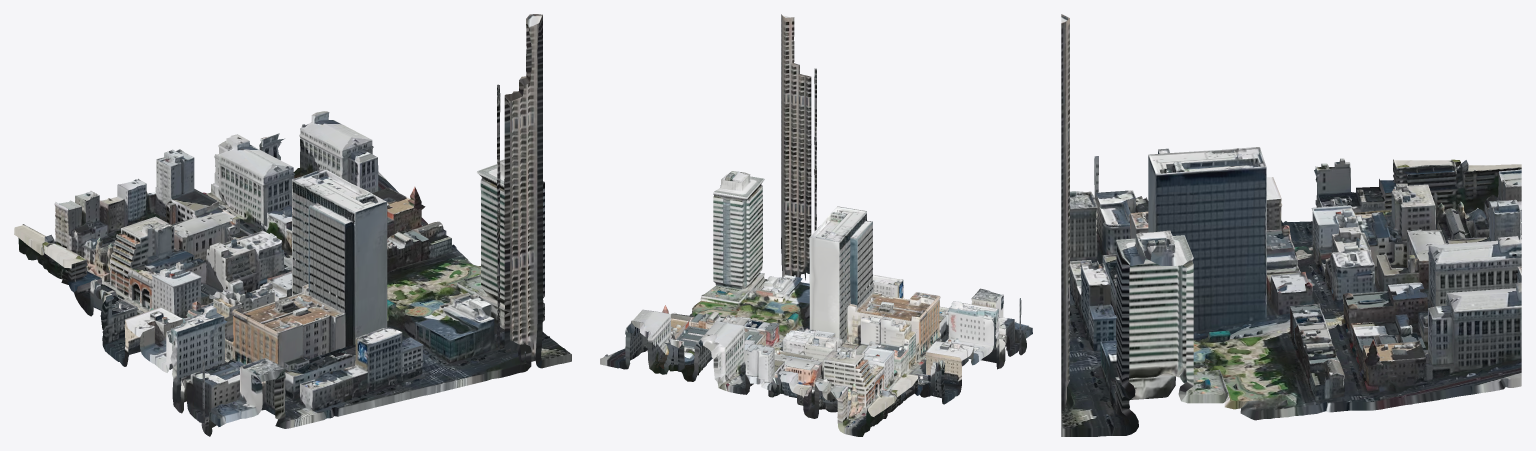
File: z17-20969-50654-h0-yup-uvflip-v3-world.glb
The picture shows the model from 3 angles, left to right: view 1: azimuth 30°, elevation 25°; view 2: azimuth 150°, elevation 25°; view 3: azimuth 270°, elevation 25°; orthographic projection. The views are drawn at different scales.
Size of the model in its own units: 242 by 231 by 243.
1 material, 1 textured.
